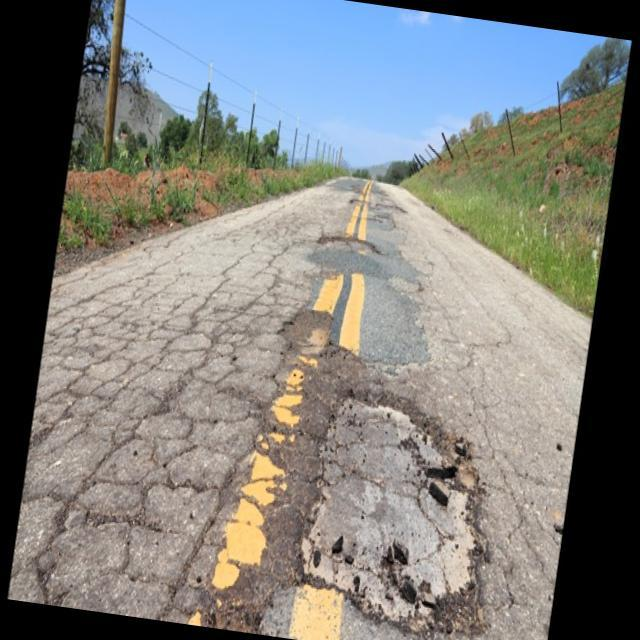Pothole: (294, 379, 510, 636), (317, 228, 384, 266)
